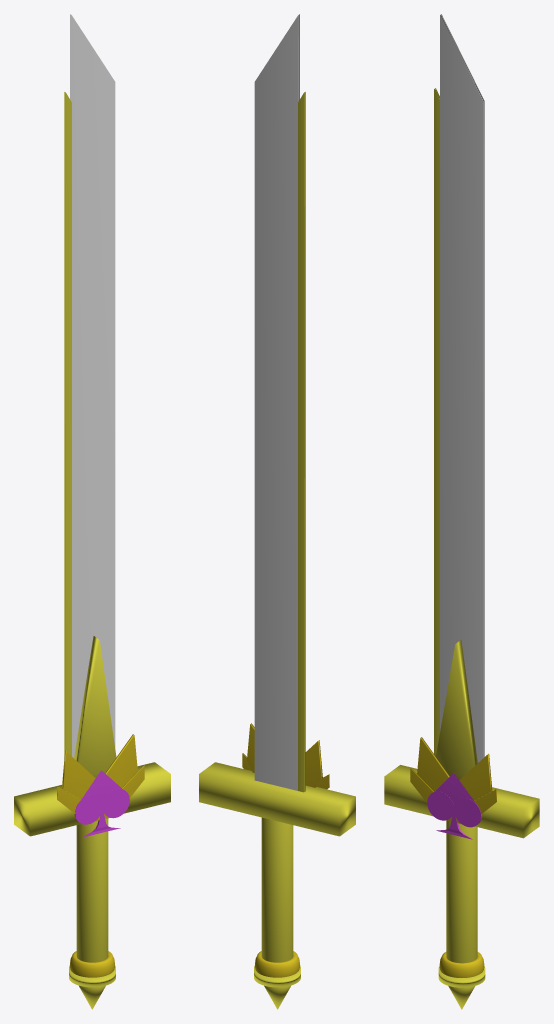
The model's file is Sword_White_2.fbx.
3 renders of one model, left to right at view 1: azimuth 30°, elevation 25°; view 2: azimuth 150°, elevation 25°; view 3: azimuth 330°, elevation 25°, orthographic.
Parts seen in each view (by area): view 1: Cube.009, Cube.010, Cylinder.007, Cube.008, Cube.012, Cube.011, Torus.001, Cube.007, Cylinder.002, Cylinder.005, Cube.005, Cylinder.006; view 2: Cube.009, Cube.008, Cube.010, Cylinder.007, Cube.011, Torus.001, Cylinder.006; view 3: Cube.009, Cylinder.007, Cube.010, Cube.008, Cube.012, Cube.011, Torus.001, Cube.007, Cylinder.002, Cylinder.005, Cube.005, Cylinder.006.
Part boxes in pixels (left/top/right/bottom): Cube.009: left=70, top=14, right=115, bottom=757; Cube.010: left=64, top=92, right=71, bottom=757; Cylinder.007: left=76, top=818, right=108, bottom=962; Cube.008: left=14, top=762, right=170, bottom=836; Cube.012: left=74, top=636, right=116, bottom=777; Cube.011: left=61, top=734, right=137, bottom=798; Torus.001: left=70, top=951, right=114, bottom=977; Cube.007: left=57, top=765, right=144, bottom=821; Cylinder.002: left=74, top=795, right=106, bottom=824; Cylinder.005: left=103, top=788, right=129, bottom=818; Cube.005: left=82, top=770, right=122, bottom=801; Cylinder.006: left=69, top=965, right=115, bottom=987; Cube.009: left=254, top=14, right=299, bottom=790; Cube.008: left=199, top=762, right=355, bottom=836; Cube.010: left=298, top=92, right=305, bottom=792; Cylinder.007: left=261, top=817, right=293, bottom=962; Cube.011: left=247, top=723, right=322, bottom=787; Torus.001: left=255, top=951, right=299, bottom=977; Cylinder.006: left=254, top=965, right=300, bottom=987; Cube.009: left=440, top=14, right=484, bottom=762; Cylinder.007: left=446, top=820, right=477, bottom=963; Cube.010: left=434, top=88, right=439, bottom=756; Cube.008: left=384, top=765, right=539, bottom=838; Cube.012: left=436, top=640, right=477, bottom=779; Cube.011: left=417, top=737, right=492, bottom=800; Torus.001: left=439, top=952, right=484, bottom=977; Cube.007: left=410, top=768, right=496, bottom=823; Cylinder.002: left=427, top=791, right=457, bottom=820; Cylinder.005: left=454, top=798, right=481, bottom=827; Cube.005: left=434, top=773, right=474, bottom=804; Cylinder.006: left=438, top=966, right=485, bottom=987.
Bounding box in the file's own units: 136 × 928 × 39.84.
